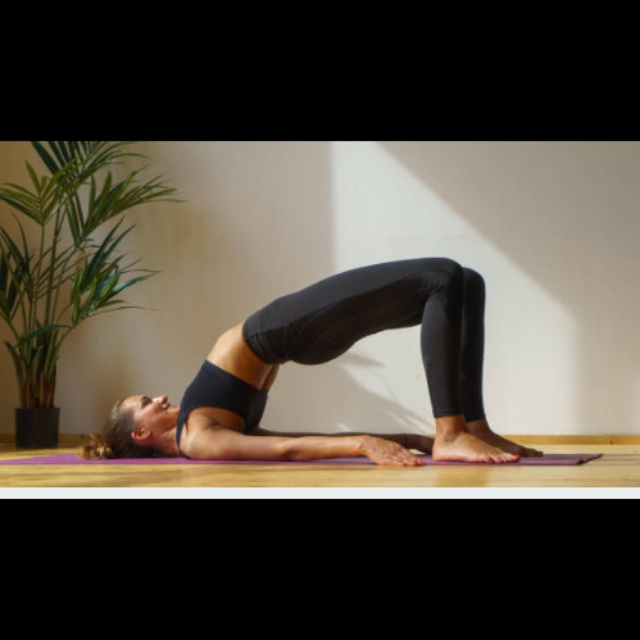Bridge_Pose: (75, 251, 552, 473)
